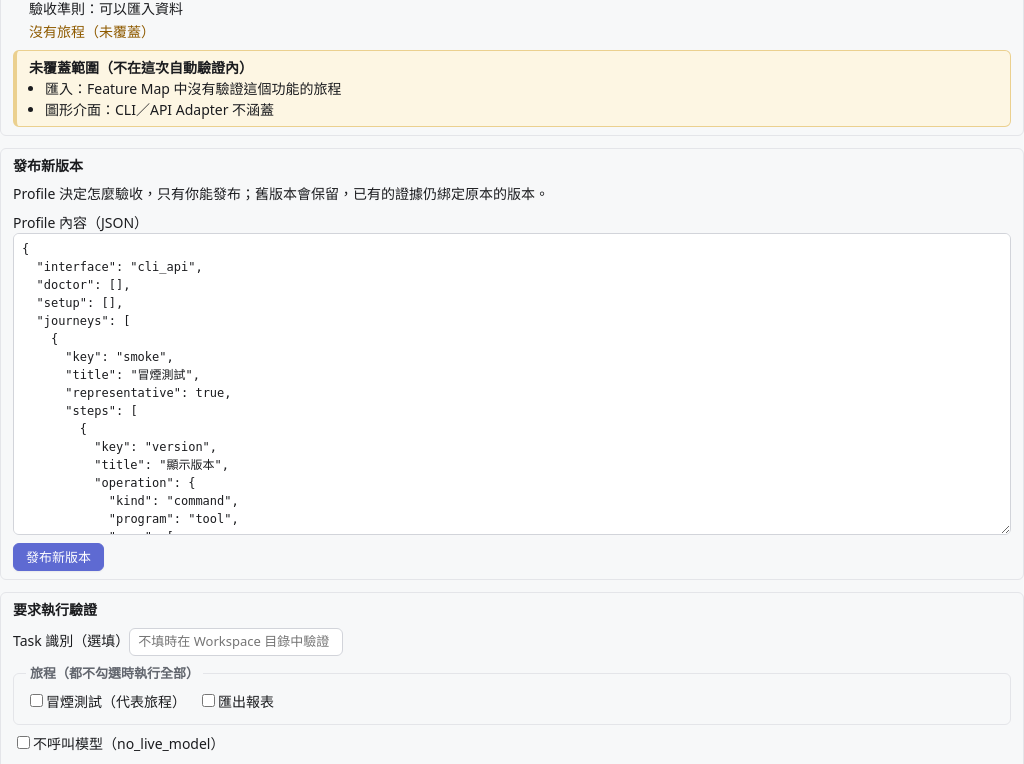
Scenario: 驗證 › 發布：JSON 格式錯誤時不送出；Runtime 拒絕時顯示錯誤代碼與訊息
(page scrolled)
Clear the text box labelled "Profile 內容（JSON）" at {"x": 512, "y": 384}, box [13, 233, 1011, 535]
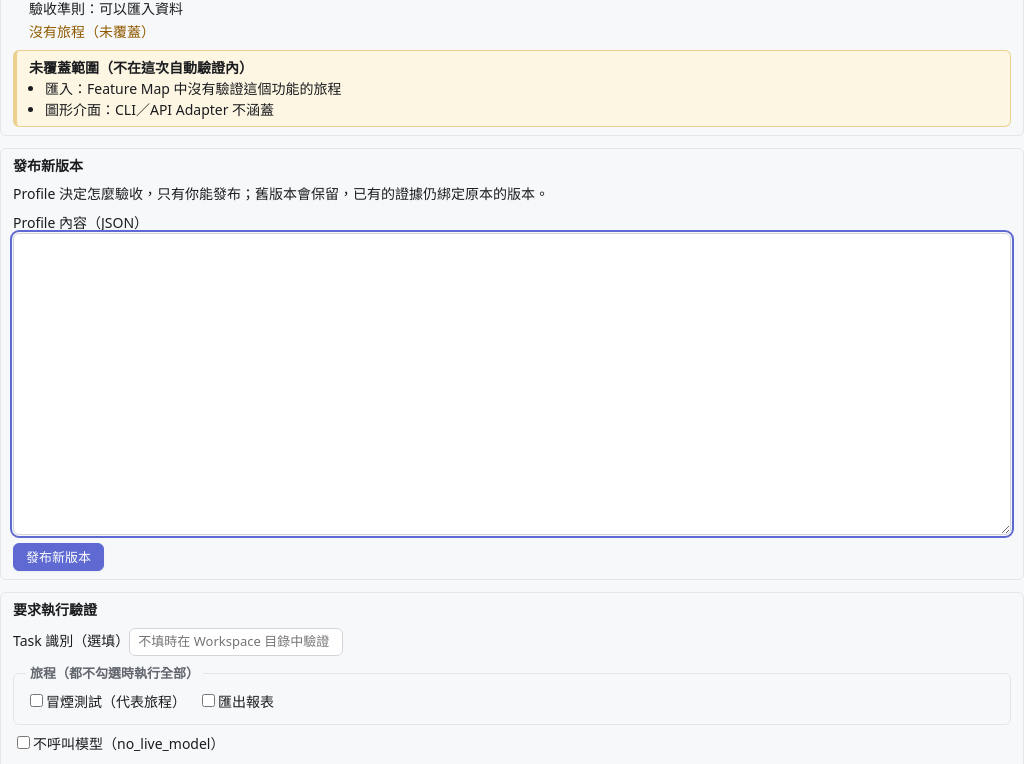
Type keys "{不是 JSON"
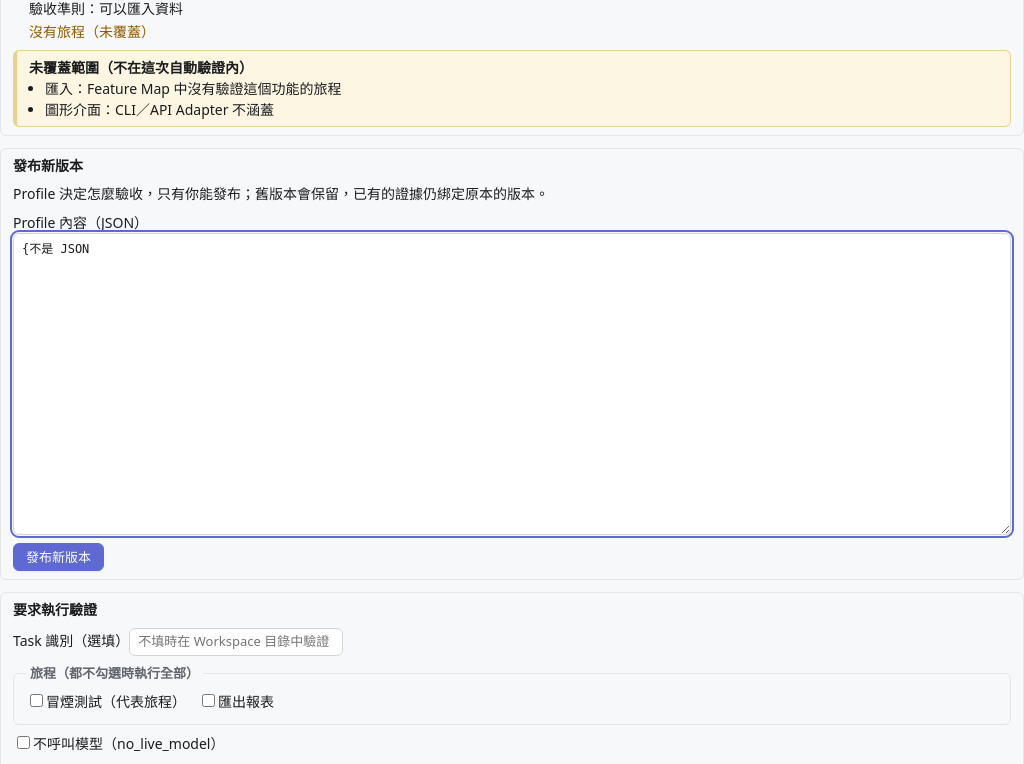
Click the button "發布新版本" at {"x": 58, "y": 557}, box [13, 543, 104, 571]
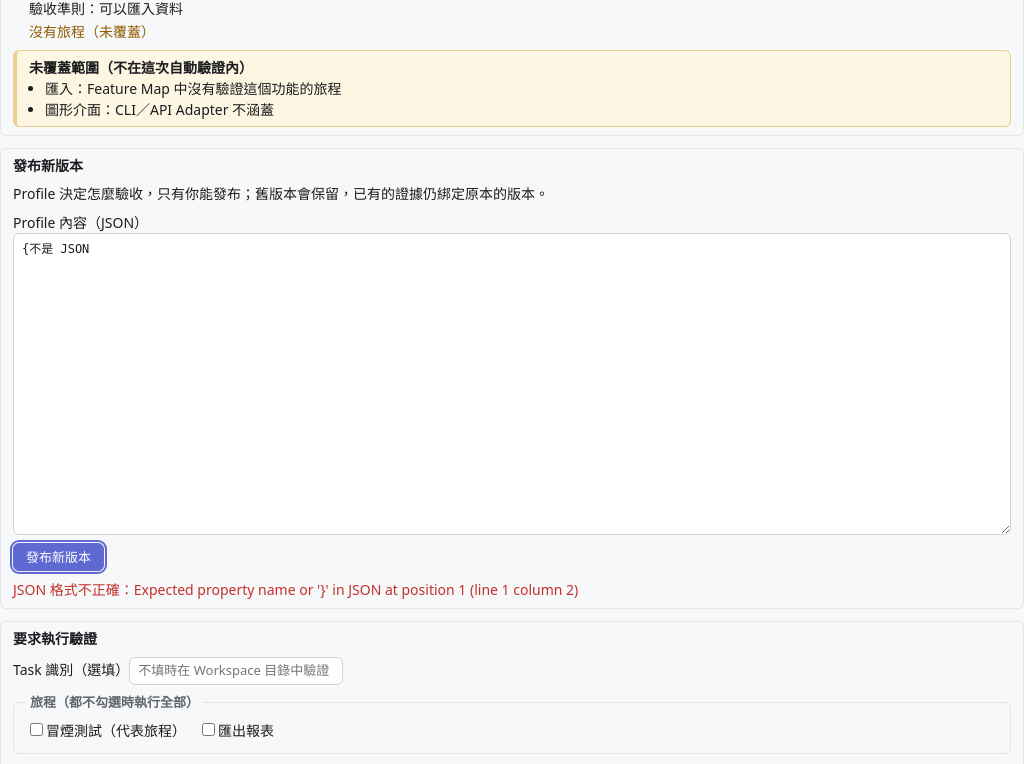
Now the message shows "JSON 格式不正確", box [13, 580, 578, 599]
Clear the text box labelled "Profile 內容（JSON）" at {"x": 512, "y": 384}, box [13, 233, 1011, 535]
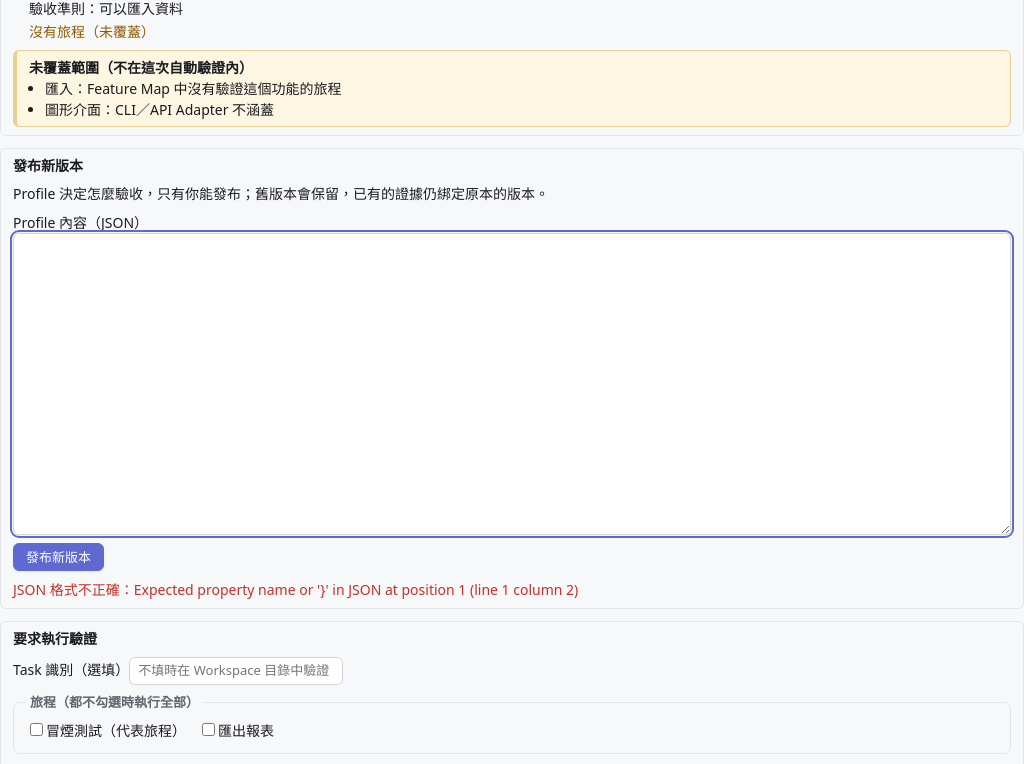
Type keys "{\"interface\": \"cli_api\"}"
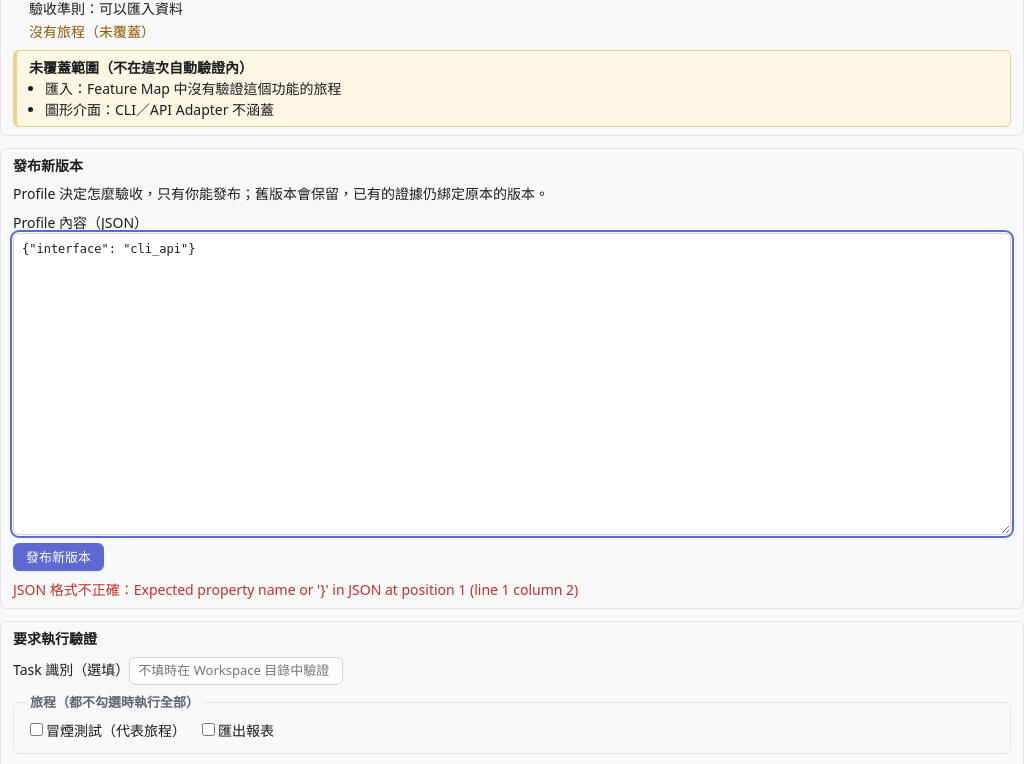
Click the button "發布新版本" at {"x": 58, "y": 557}, box [13, 543, 104, 571]
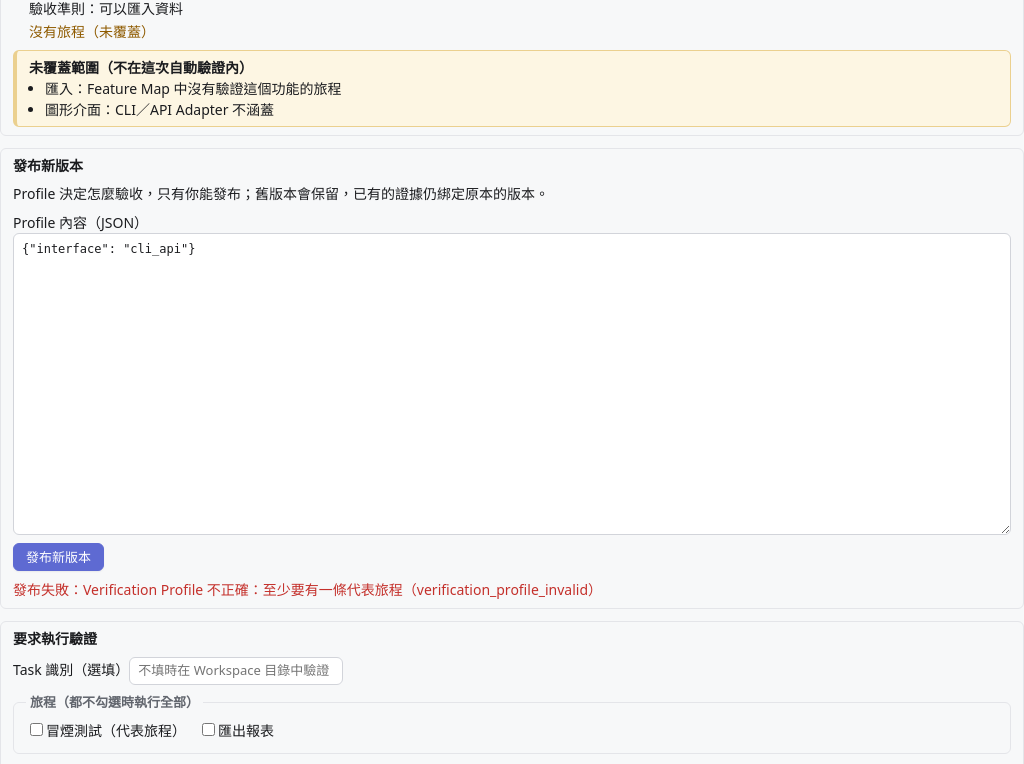
Now the message reads "發布失敗：Verification Profile 不正確：至少要有一條代表旅程（verification_profile_invalid）", box [13, 580, 602, 599]
